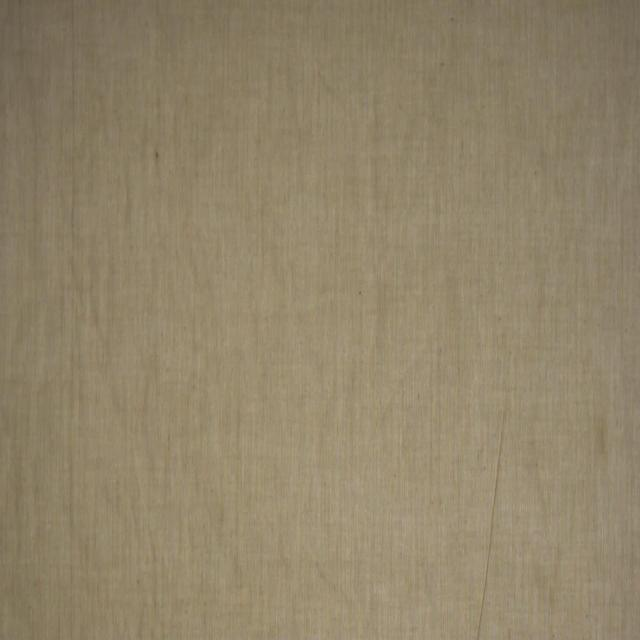dirty: (598, 418, 607, 459), (154, 150, 160, 158)
